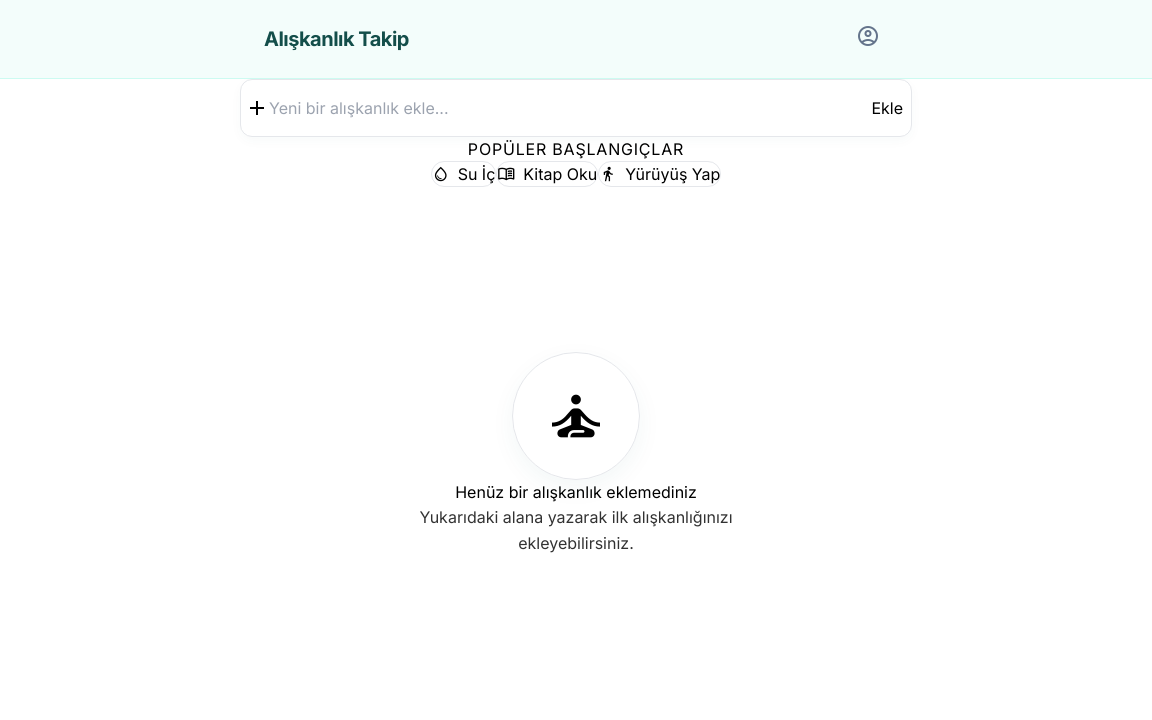
it: App integration › renders habit list after adding a habit
The width and height of the screenshot is (1152, 720).
Type "Su İç" into the field with placeholder "Yeni bir alışkanlık ekle..." at {"x": 570, "y": 108}, box [269,84,871,132]
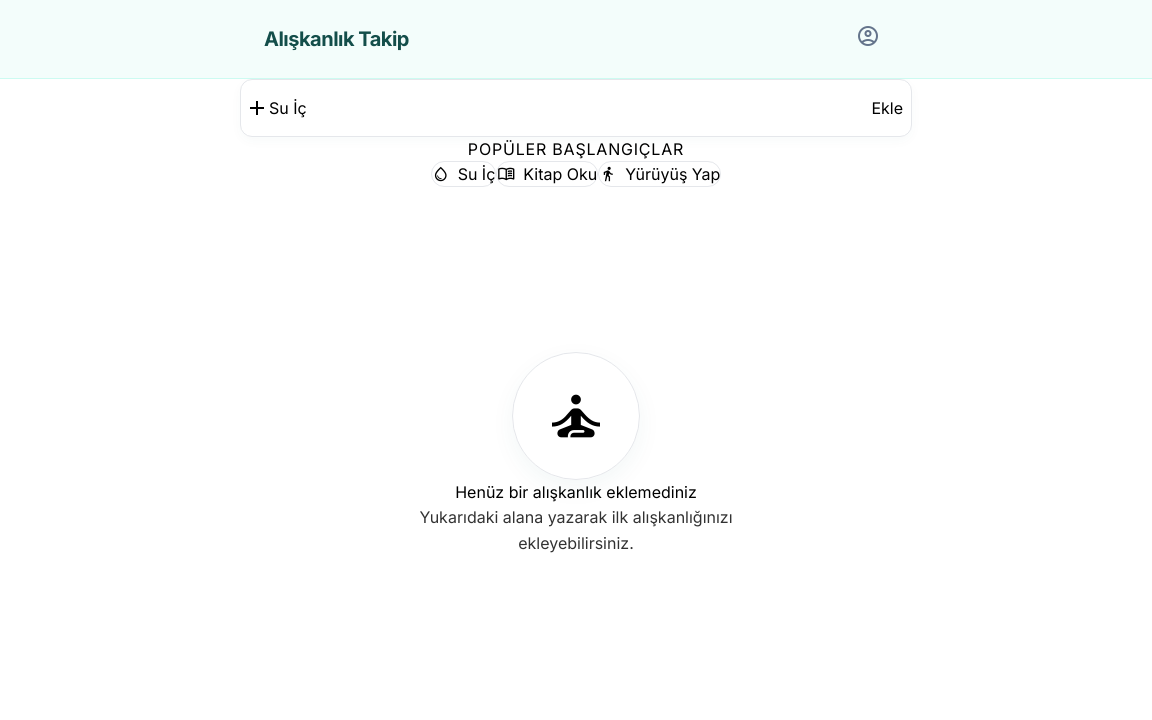
Press Enter in the field with placeholder "Yeni bir alışkanlık ekle...", box [269,84,871,132]
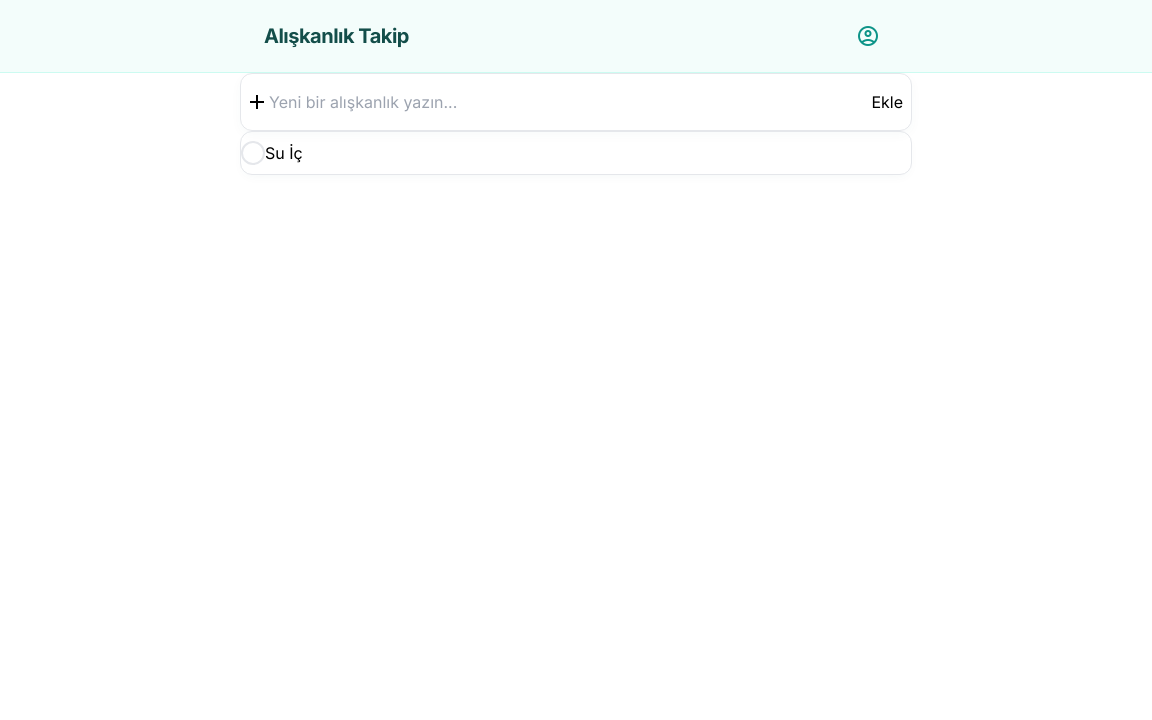
expect the text "Su İç" is shown: met, box [265,143,303,163]
